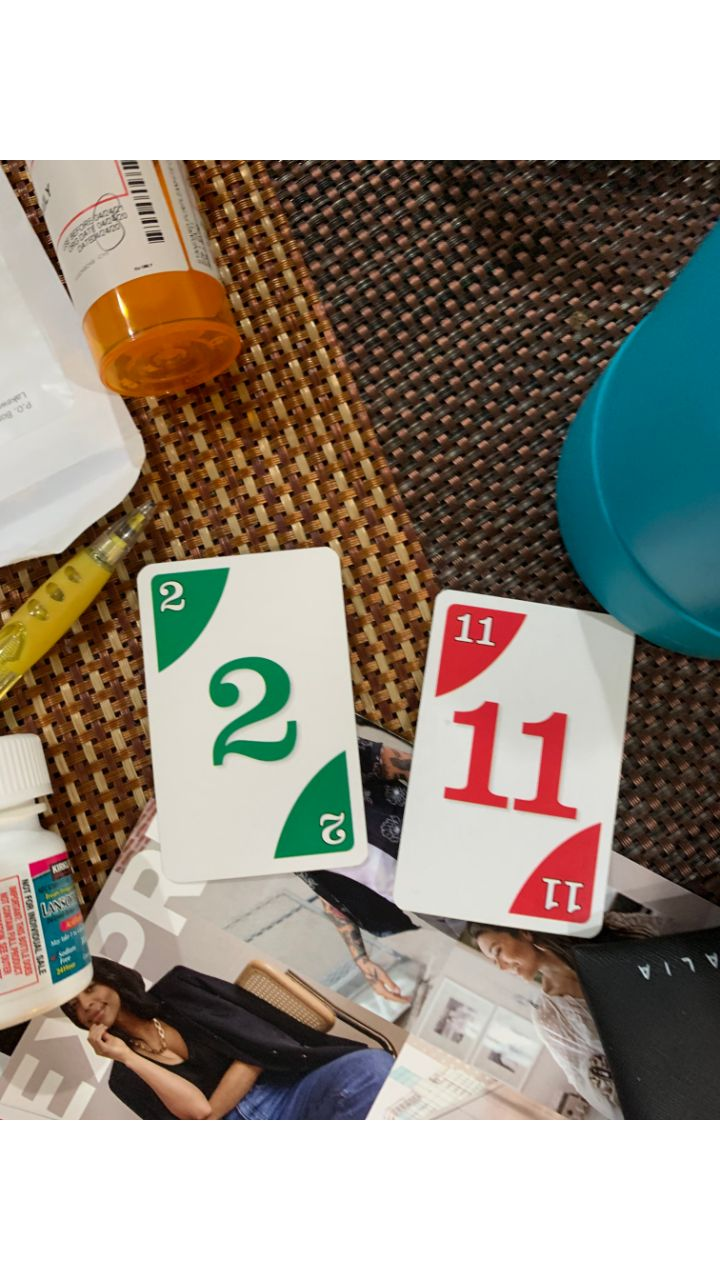eleven: (387, 585, 637, 945)
two: (133, 540, 375, 887)
